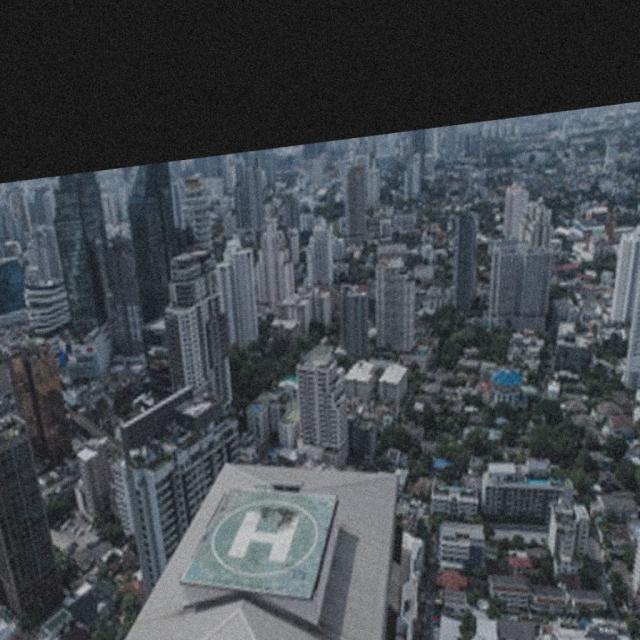helipad: (208, 493, 320, 581)
